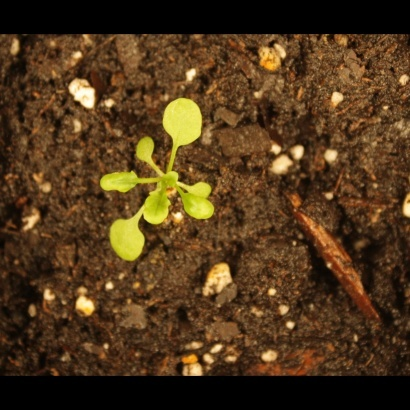leaf: (154, 94, 211, 150), (107, 213, 149, 266), (90, 167, 140, 194), (141, 184, 172, 226), (126, 132, 160, 166), (181, 194, 218, 222), (182, 177, 219, 200)
